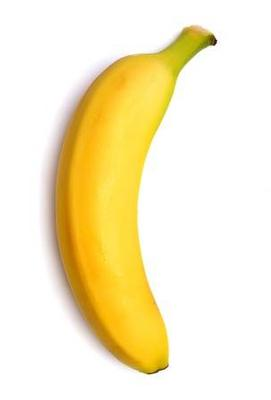banana: (0, 0, 271, 400)
